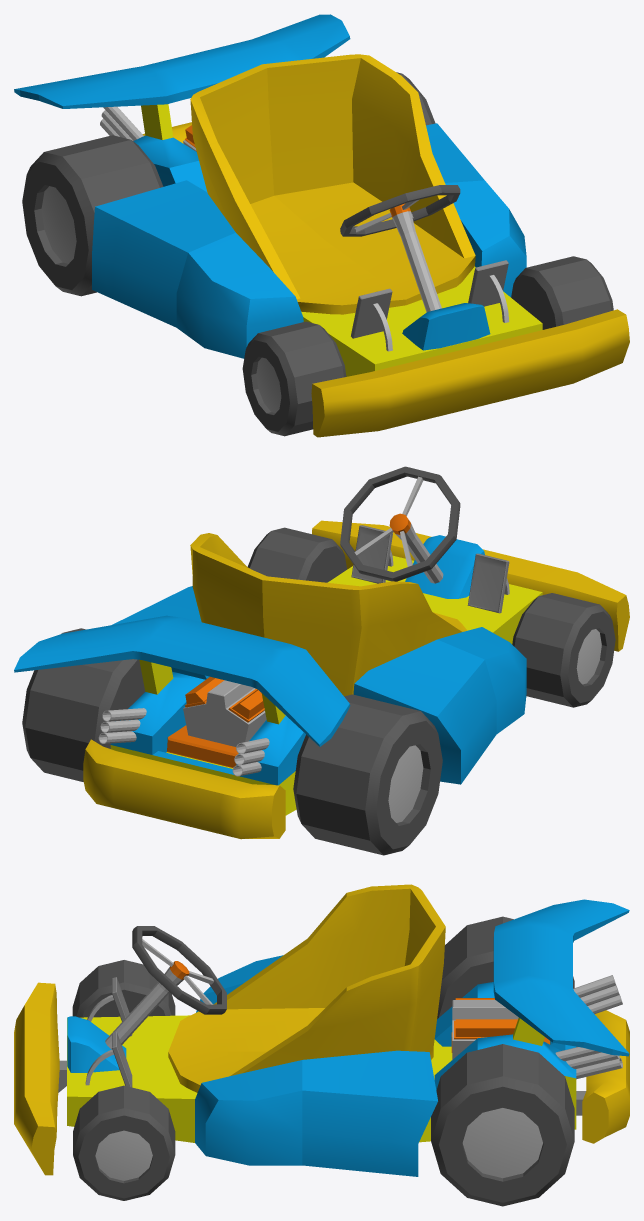
The model's file is SemiFinishedKart.fbx.
3 views of the same model, one above another, from view 1: azimuth 30°, elevation 25°; view 2: azimuth 150°, elevation 25°; view 3: azimuth 270°, elevation 25° (orthographic). The views are drawn at different scales.
Parts seen in each view (by area): view 1: frame, seat, wheel_driving_right, wheel_turning_right, wheel_turning_left, steeringWheel, steeringColumnBase, pCube1 (×2); view 2: frame, seat, wheel_driving_right, wheel_driving_left, wheel_turning_right, steeringWheel, engine, wheel_turning_left, pCube1 (×2), steeringColumnBase, engineSupport; view 3: frame, seat, wheel_driving_left, wheel_turning_left, steeringWheel, wheel_driving_right, wheel_turning_right, engine, steeringColumnBase, pCube1, pCylinder12, pCylinder11 (+1 smaller).
Boxes of the visible parts, box(x1,y1,x2,y2) form: frame: box(14, 14, 629, 437); seat: box(190, 54, 475, 314); wheel_driving_right: box(22, 135, 163, 296); wheel_turning_right: box(242, 321, 346, 436); wheel_turning_left: box(511, 256, 613, 329); steeringWheel: box(340, 185, 460, 312); steeringColumnBase: box(402, 303, 490, 350); pCube1 (×2): box(351, 260, 508, 338); frame: box(14, 520, 629, 839); seat: box(190, 533, 467, 696); wheel_driving_right: box(293, 694, 442, 855); wheel_driving_left: box(22, 628, 145, 782); wheel_turning_right: box(512, 593, 615, 707); steeringWheel: box(340, 466, 460, 583); engine: box(183, 676, 266, 746); wheel_turning_left: box(247, 527, 346, 582); pCube1 (×2): box(351, 525, 509, 613); steeringColumnBase: box(405, 535, 484, 598); engineSupport: box(167, 725, 238, 767); frame: box(14, 899, 629, 1176); seat: box(168, 884, 445, 1092); wheel_driving_left: box(431, 1044, 574, 1206); wheel_turning_left: box(73, 1085, 175, 1200); steeringWheel: box(105, 926, 226, 1049); wheel_driving_right: box(437, 916, 574, 1018); wheel_turning_right: box(72, 960, 175, 1017); engine: box(452, 998, 518, 1059); steeringColumnBase: box(67, 1016, 126, 1072); pCube1: box(112, 1032, 132, 1087); pCylinder12: box(576, 1058, 622, 1079); pCylinder11: box(566, 1052, 619, 1069).
Size of the model in its own units: 8 by 4.31 by 12.
